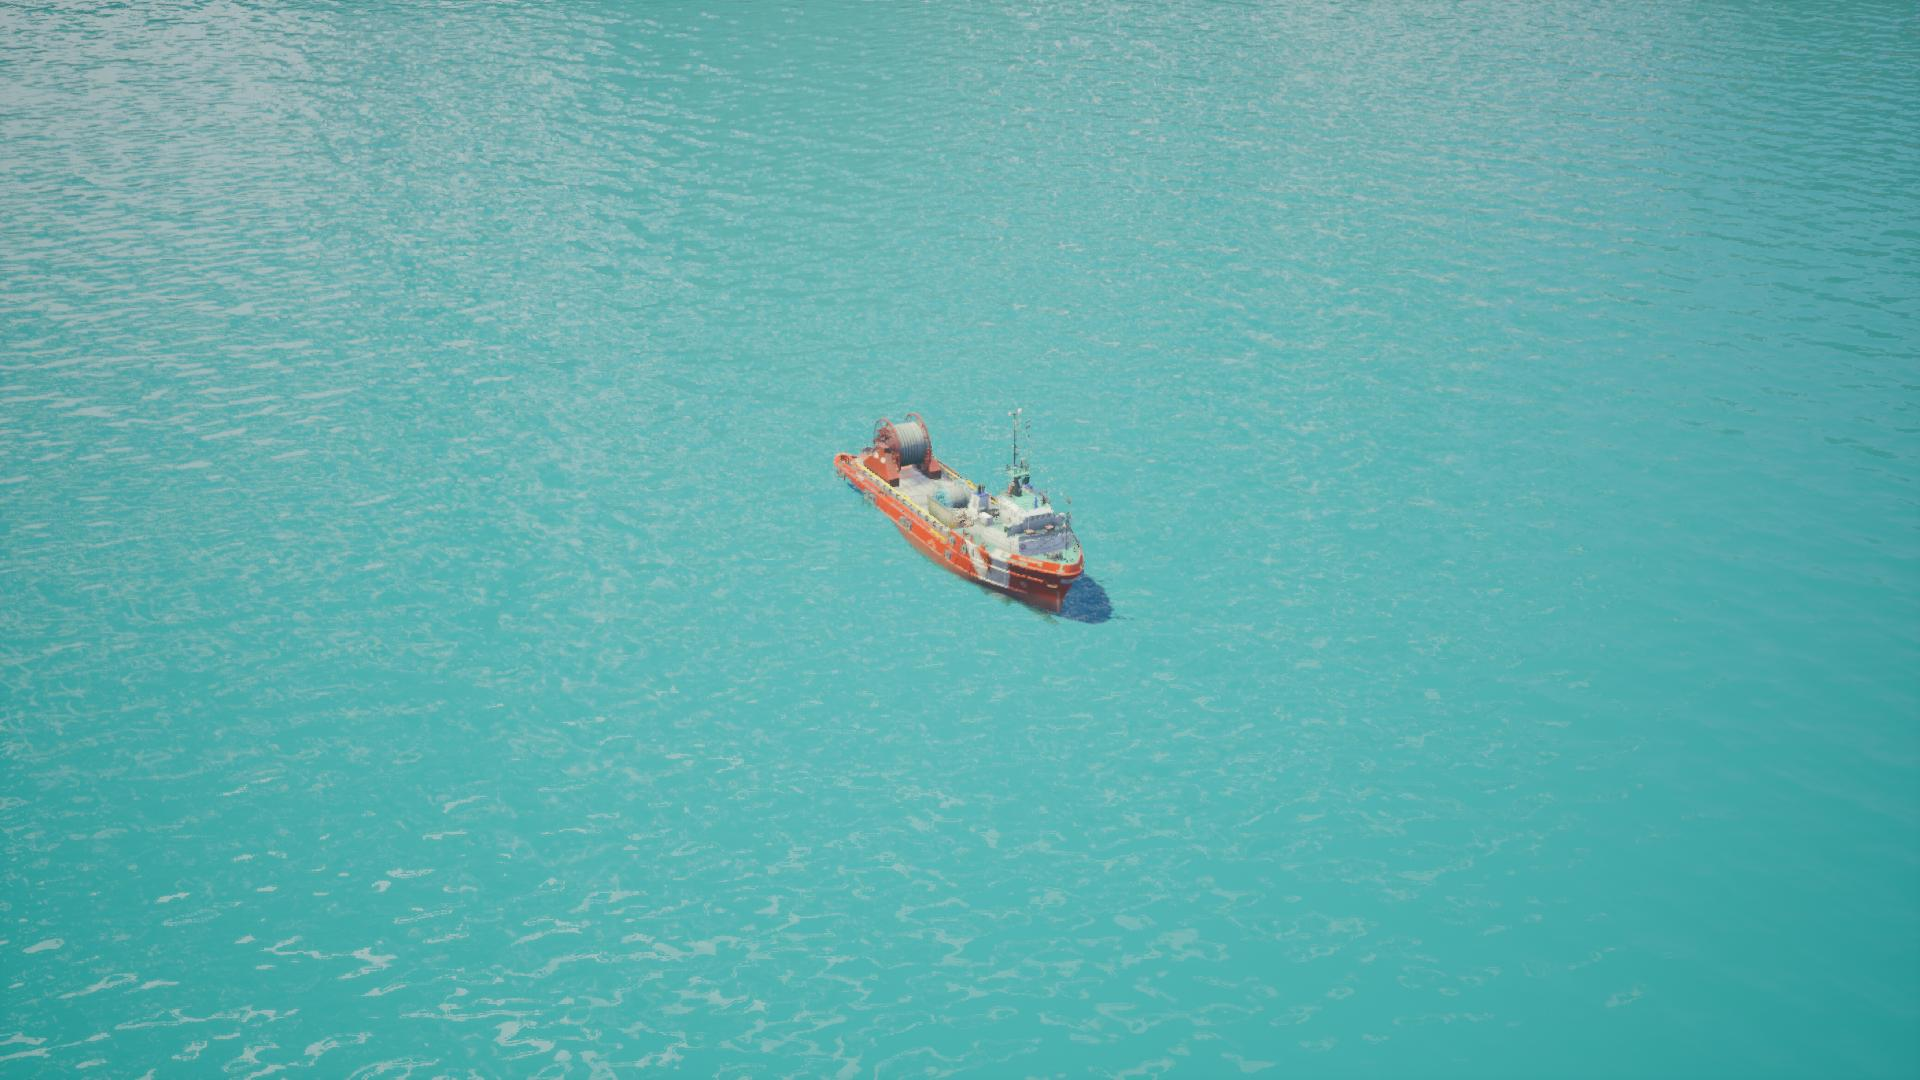Tug Boat: (823, 372, 1145, 615)
